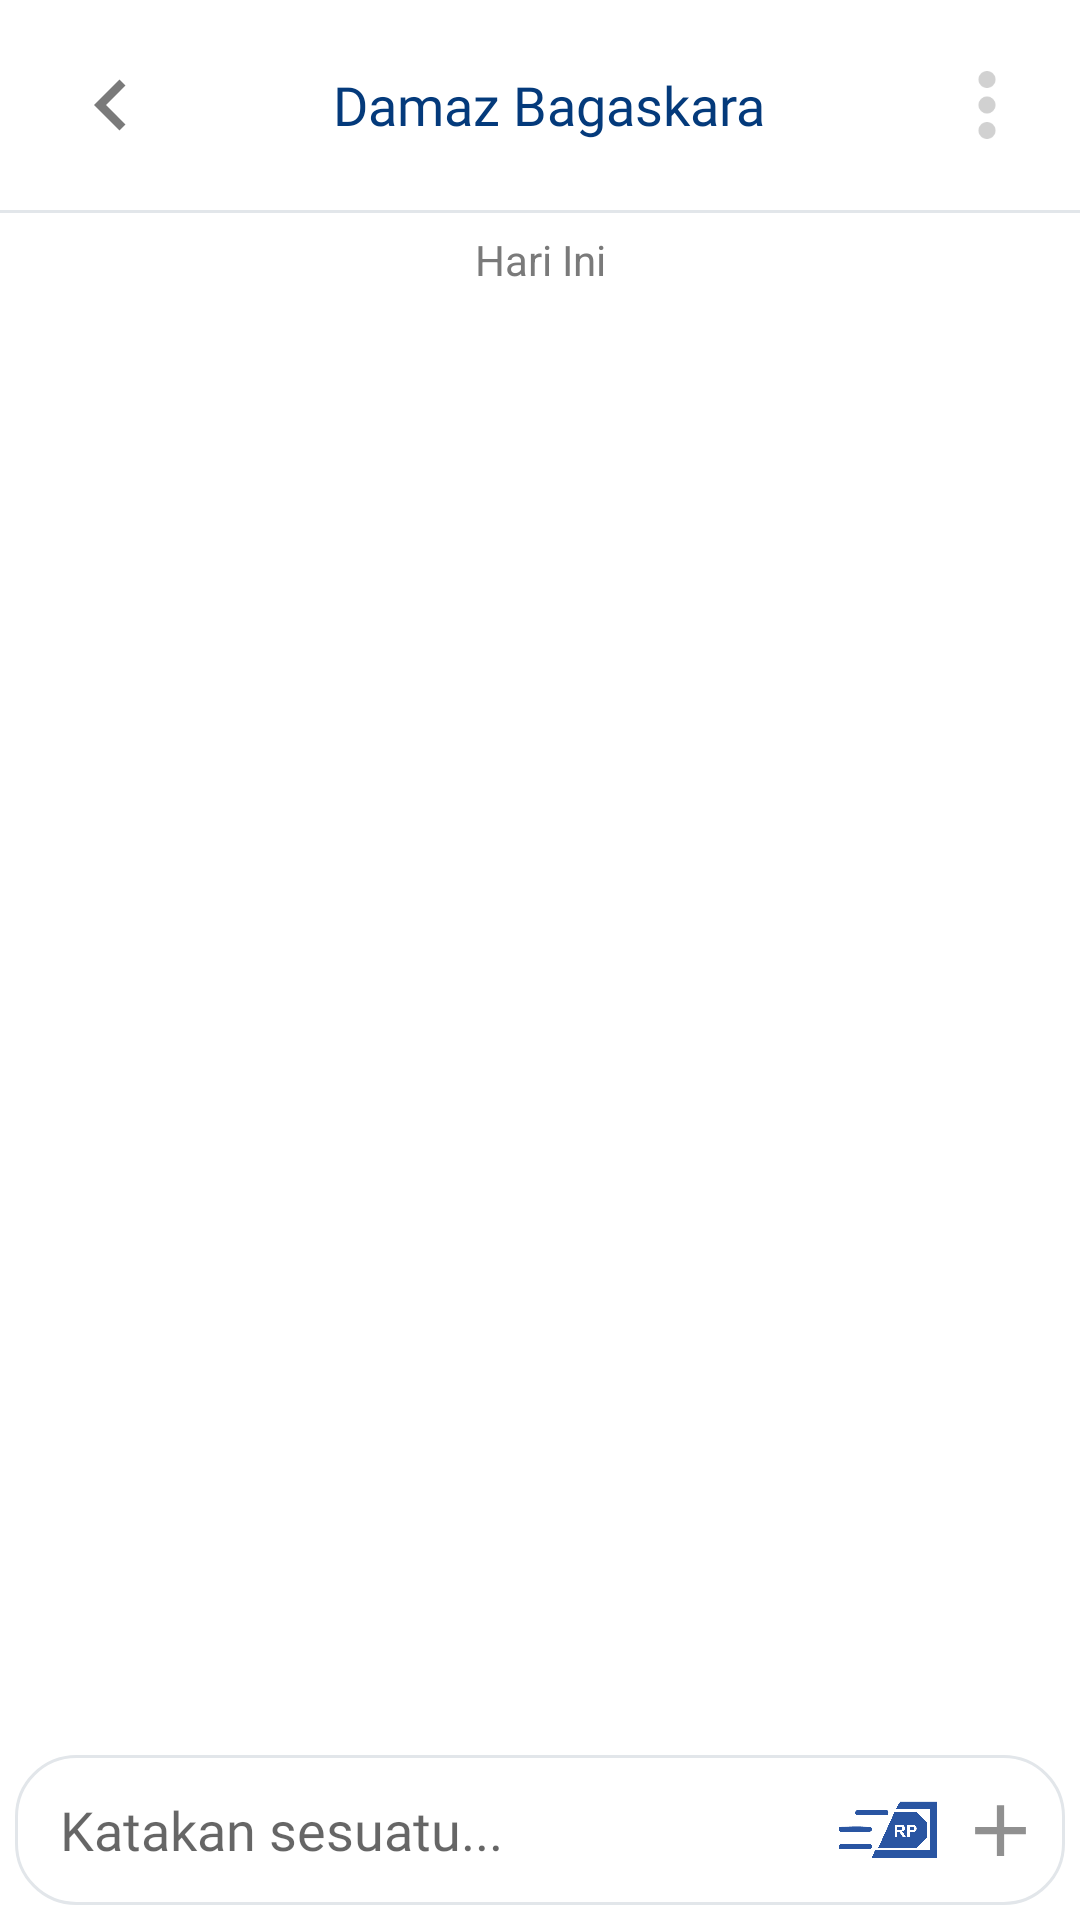

Where icons sit on this 1080 × 1920 app screen, as [x1, y1, x2, y2]:
back: [94, 79, 126, 131]
option menu: [979, 71, 995, 139]
plus: [975, 1805, 1026, 1856]
request transfer: [839, 1801, 937, 1858]
